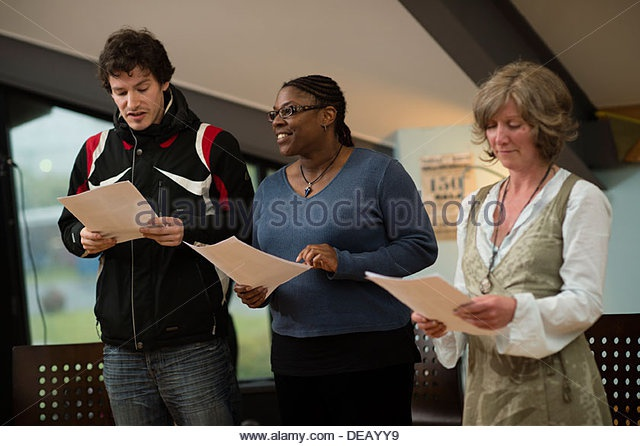bad: (106, 72, 158, 124), (475, 107, 527, 159)
